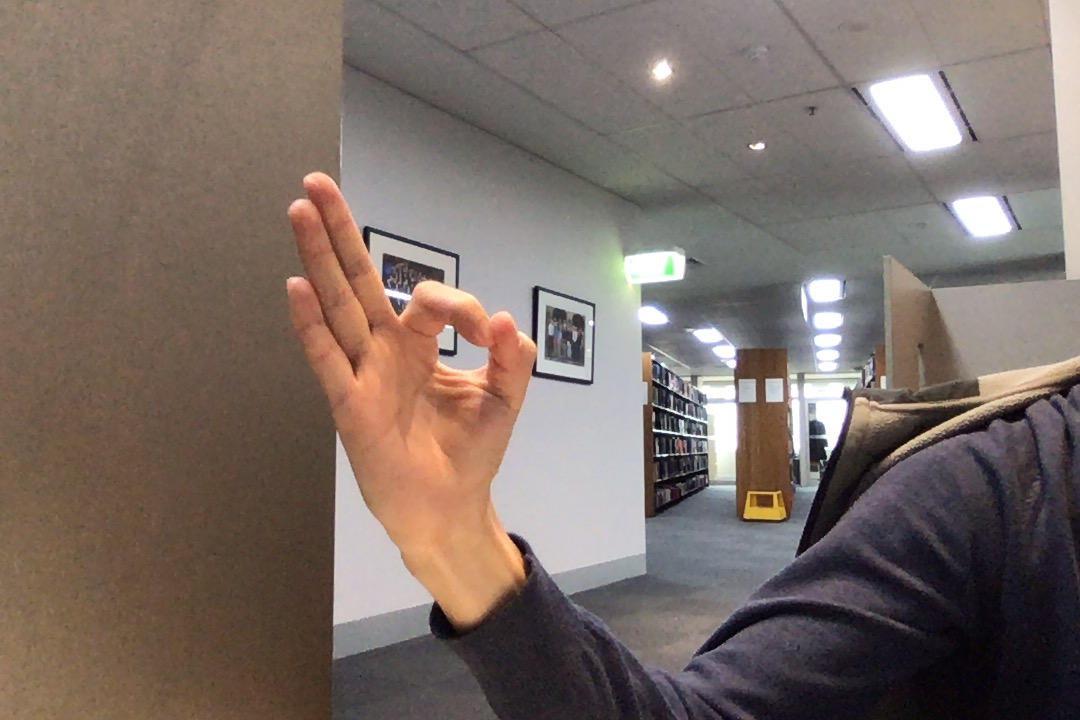oksign: (271, 158, 546, 531)
